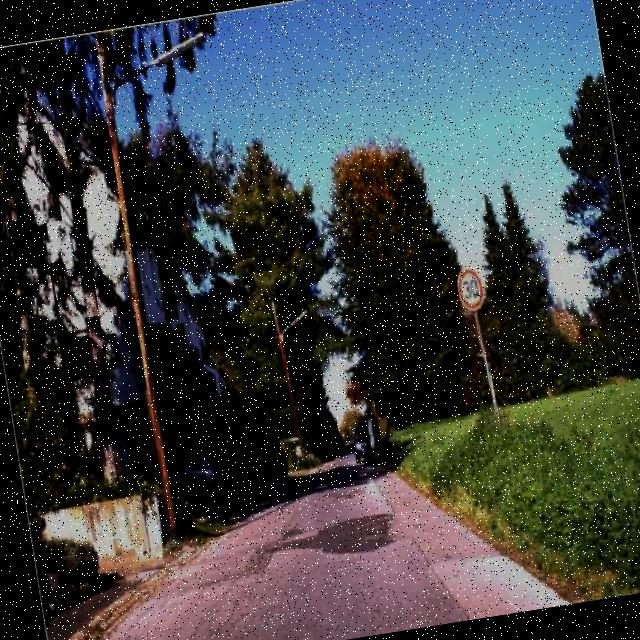Ograniczenie predkosci do 30: (452, 262, 488, 318)
